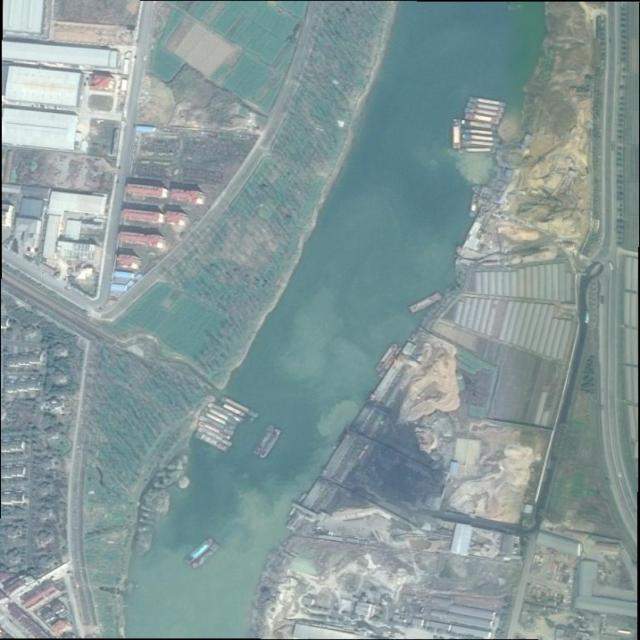ship: (220, 396, 260, 419), (199, 415, 236, 436), (197, 426, 234, 447), (219, 401, 255, 422), (185, 538, 214, 564), (191, 543, 220, 569), (209, 403, 244, 423), (202, 410, 237, 430), (410, 292, 443, 313), (380, 347, 403, 377), (195, 432, 229, 452), (198, 421, 232, 440), (253, 426, 275, 455), (375, 345, 398, 372), (206, 407, 239, 424), (261, 430, 281, 458), (465, 113, 500, 125), (467, 102, 505, 113), (470, 97, 507, 108), (465, 108, 503, 118), (461, 120, 495, 129), (462, 134, 500, 142), (453, 118, 461, 148), (469, 193, 479, 217), (465, 129, 495, 136), (460, 148, 495, 154), (462, 142, 498, 147)
